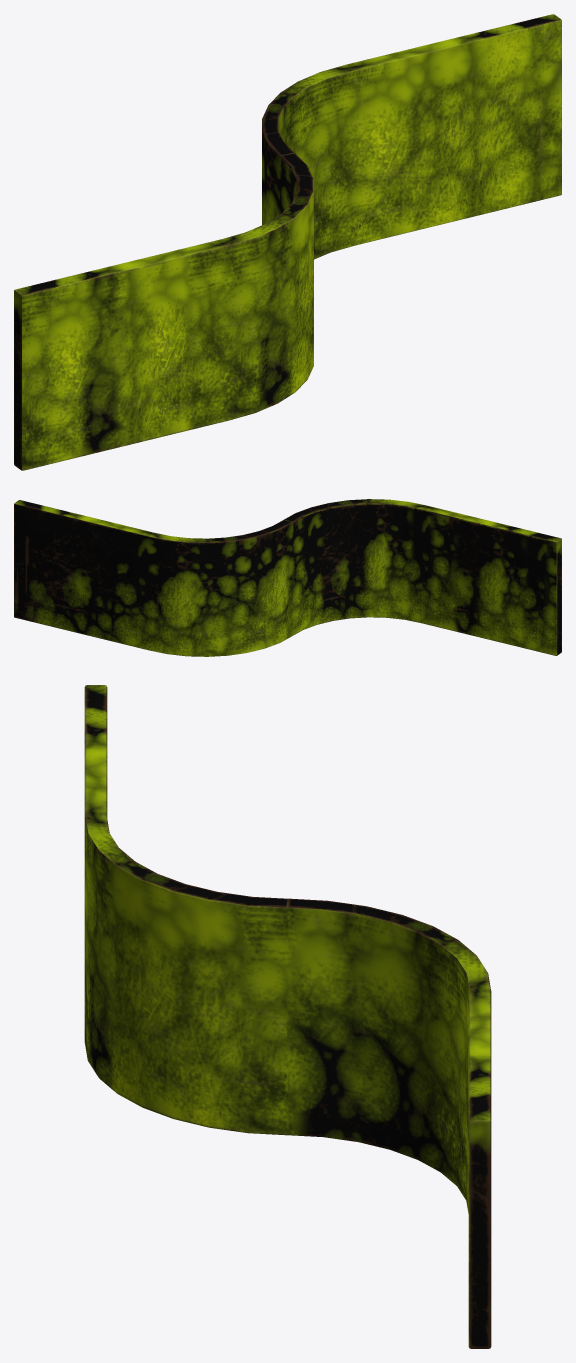
The model's file is curved_wall_S_v6.glb.
3 views of the same model, one above another, from view 1: azimuth 30°, elevation 25°; view 2: azimuth 150°, elevation 25°; view 3: azimuth 270°, elevation 25° (orthographic). The views are drawn at different scales.
Visible parts, largest first — view 1: S_Curve_Wall; view 2: S_Curve_Wall; view 3: S_Curve_Wall.
Boxes of the visible parts, x1=… form: S_Curve_Wall: x1=14, y1=14, x2=561, y2=470; S_Curve_Wall: x1=14, y1=499, x2=561, y2=656; S_Curve_Wall: x1=84, y1=685, x2=491, y2=1348.
Bounding box in the file's own units: 4.09 × 1 × 1.61.
1 material, 1 textured.
